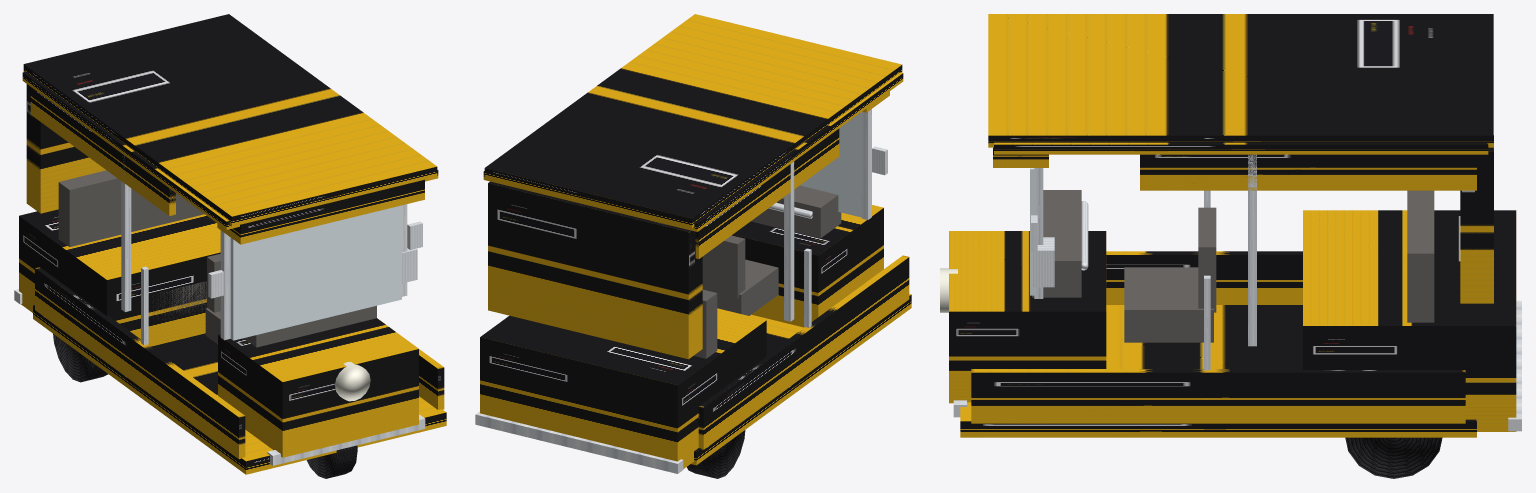
Rendered from auto_rickshaw_realistic.glb.
The picture shows the model from 3 angles, left to right: view 1: azimuth 30°, elevation 25°; view 2: azimuth 150°, elevation 25°; view 3: azimuth 270°, elevation 25°; orthographic projection. The views are drawn at different scales.
Parts seen in each view (by area): view 1: Rickshaw_Yellow_Canopy, Rickshaw_Lower_Body, Rickshaw_Windshield, Rickshaw_Interior, Rickshaw_Chrome_Rails_Meter, Rickshaw_Tires, Rickshaw_Lights; view 2: Rickshaw_Yellow_Canopy, Rickshaw_Lower_Body, Rickshaw_Interior, Rickshaw_Chrome_Rails_Meter, Rickshaw_Windshield, Rickshaw_Tires; view 3: Rickshaw_Lower_Body, Rickshaw_Yellow_Canopy, Rickshaw_Interior, Rickshaw_Chrome_Rails_Meter, Rickshaw_Tires.
Part boxes in pixels (bbox=[...]): Rickshaw_Yellow_Canopy: bbox=[22, 14, 438, 244]; Rickshaw_Lower_Body: bbox=[19, 209, 446, 474]; Rickshaw_Windshield: bbox=[230, 205, 401, 340]; Rickshaw_Interior: bbox=[58, 170, 376, 347]; Rickshaw_Chrome_Rails_Meter: bbox=[14, 155, 425, 465]; Rickshaw_Tires: bbox=[53, 334, 357, 478]; Rickshaw_Lights: bbox=[335, 362, 370, 401]; Rickshaw_Yellow_Canopy: bbox=[483, 14, 903, 359]; Rickshaw_Lower_Body: bbox=[480, 205, 911, 468]; Rickshaw_Interior: bbox=[694, 185, 841, 358]; Rickshaw_Chrome_Rails_Meter: bbox=[475, 109, 887, 473]; Rickshaw_Windshield: bbox=[800, 112, 861, 217]; Rickshaw_Tires: bbox=[687, 430, 745, 478]; Rickshaw_Lower_Body: bbox=[949, 210, 1516, 437]; Rickshaw_Yellow_Canopy: bbox=[988, 14, 1493, 303]; Rickshaw_Interior: bbox=[1032, 190, 1434, 342]; Rickshaw_Chrome_Rails_Meter: bbox=[953, 154, 1521, 431]; Rickshaw_Tires: bbox=[1345, 437, 1442, 478].
Size of the model in its own units: 1.32 by 1.71 by 2.59.
6 materials, 3 textured.
